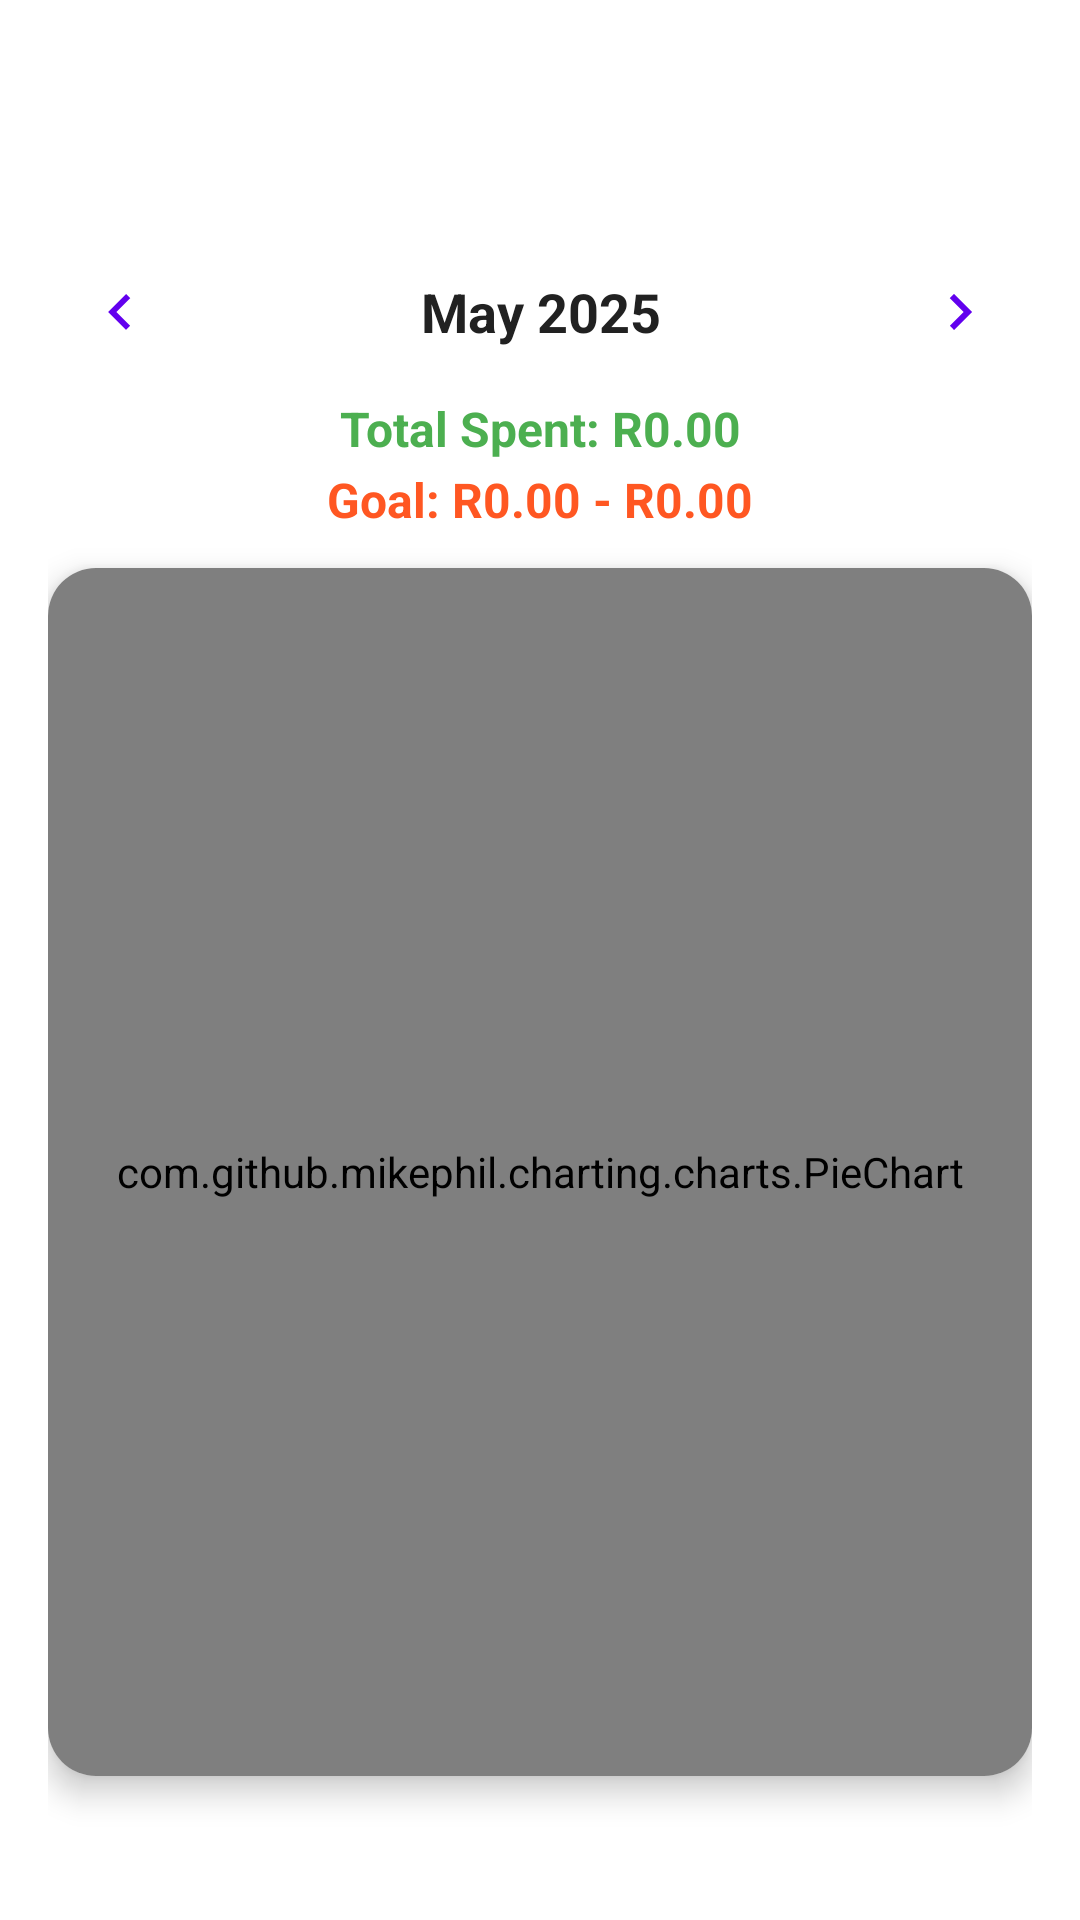

Icons on this 1080x1920 Android screen, each with its box as {"left": x1, "top": y1, "right": x2, "bottom": y2}:
Next month: {"left": 950, "top": 294, "right": 972, "bottom": 330}
Previous month: {"left": 108, "top": 294, "right": 130, "bottom": 330}
